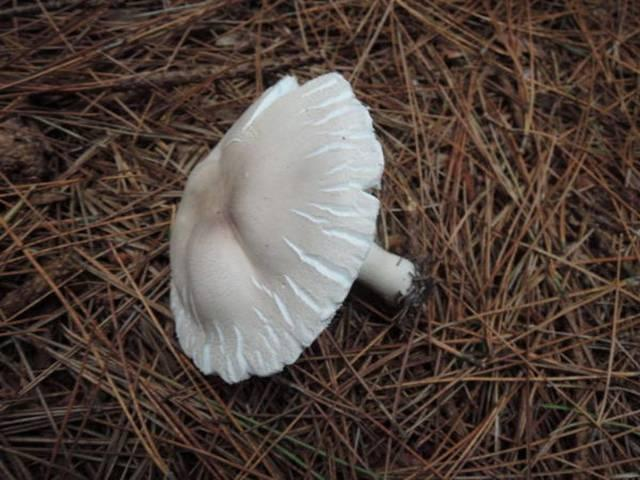poisonous_mushroom: (166, 70, 421, 384)
